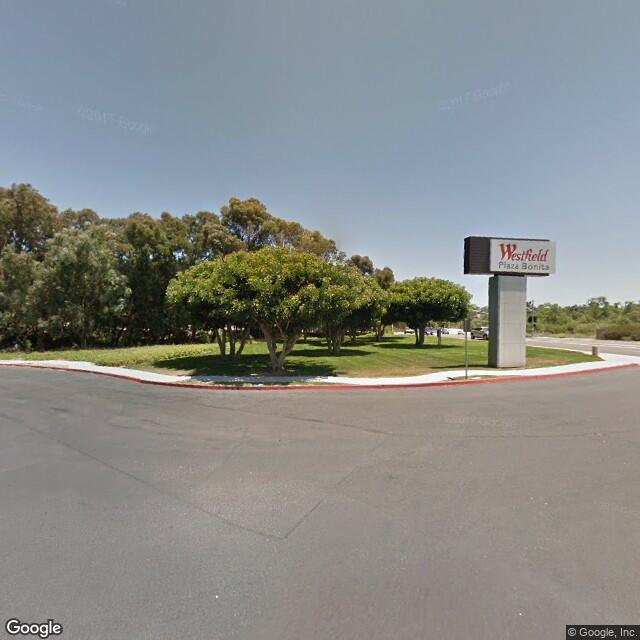litter: (255, 383, 264, 387)
